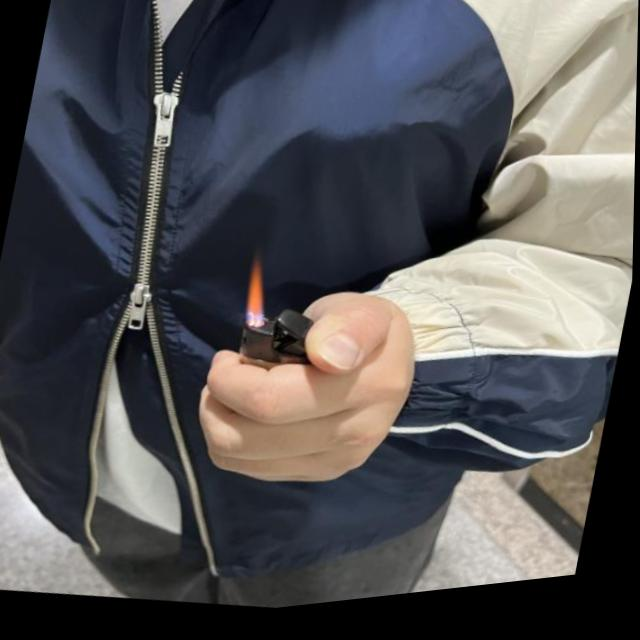Fire: (240, 259, 281, 328)
